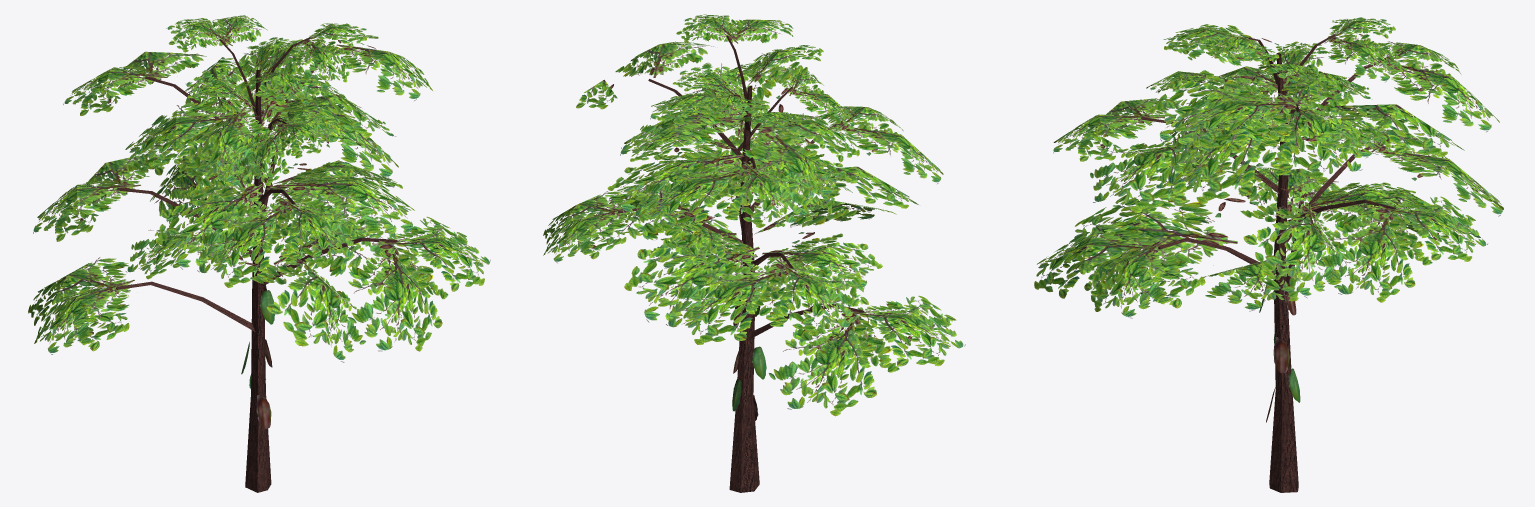
Rendered from tree_cacao.dae.
The picture shows the model from 3 angles, left to right: view 1: azimuth 30°, elevation 25°; view 2: azimuth 150°, elevation 25°; view 3: azimuth 270°, elevation 25°; orthographic projection. The views are drawn at different scales.
Visible parts, largest first — view 1: a; view 2: a; view 3: a.
Boxes of the visible parts, x1,y1,x2,y2 form: a: (28, 15, 490, 492); a: (543, 14, 965, 492); a: (1034, 17, 1503, 492).
Size of the model in its own units: 10.55 by 10.79 by 11.28.
